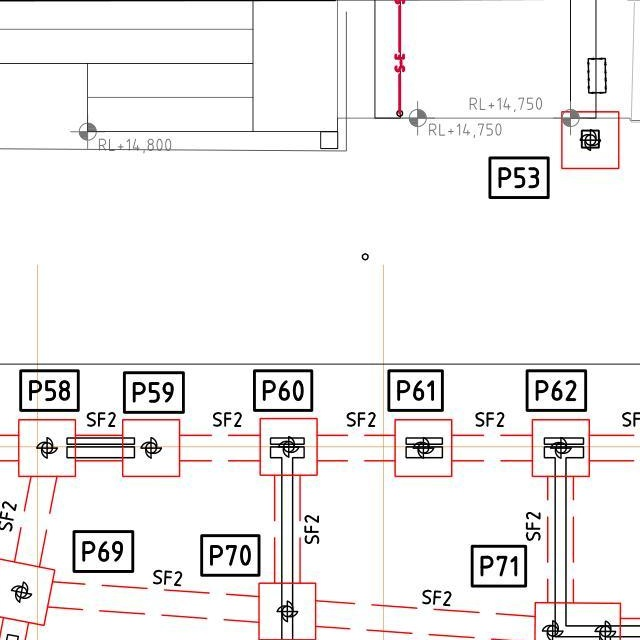P40: (260, 369, 314, 405)
P53: (487, 154, 550, 200)
P58: (21, 371, 75, 408)
P59: (127, 378, 178, 410)
P61: (385, 373, 441, 412)
P62: (524, 371, 588, 410)
P69: (77, 532, 131, 569)
P70: (200, 535, 256, 574)
P71: (468, 544, 522, 584)
